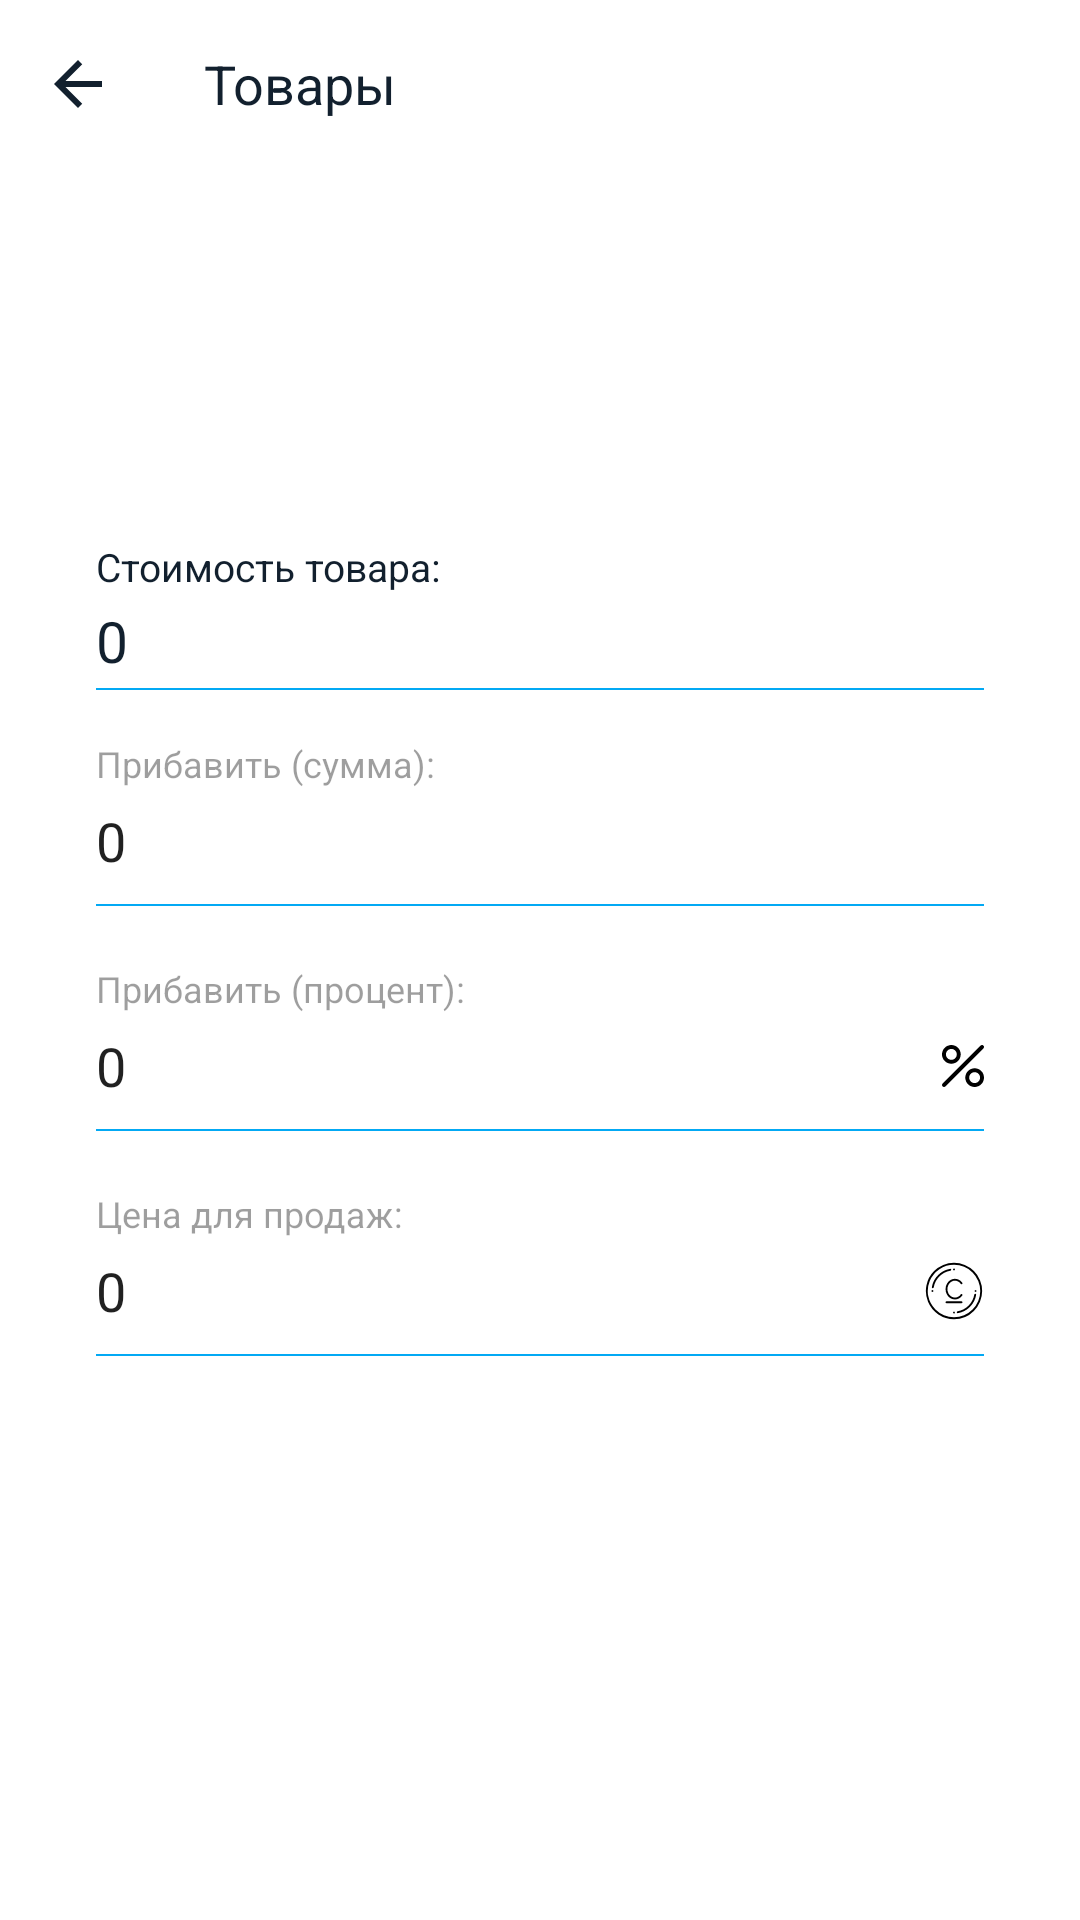

Icon bounding boxes for this 1080 × 1920 phone screenshot, format (x1, y1, x2, y2):
arrback: (54, 60, 102, 108)
